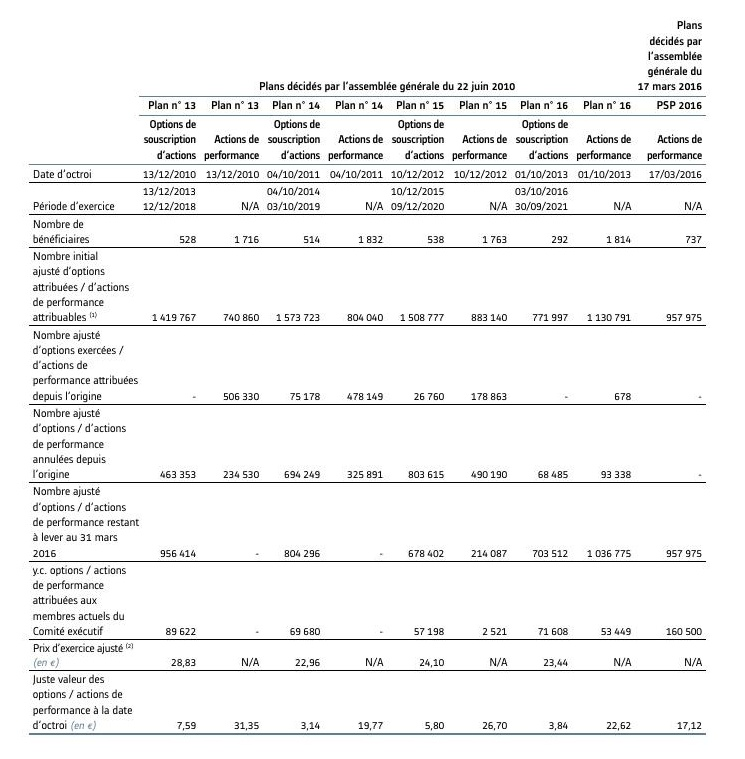table: (0, 0, 745, 759)
